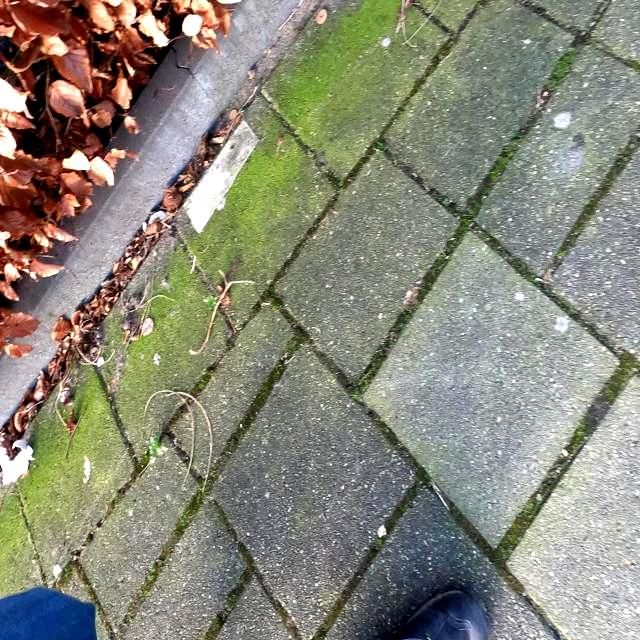Paper: (182, 117, 260, 235), (0, 442, 36, 486)
